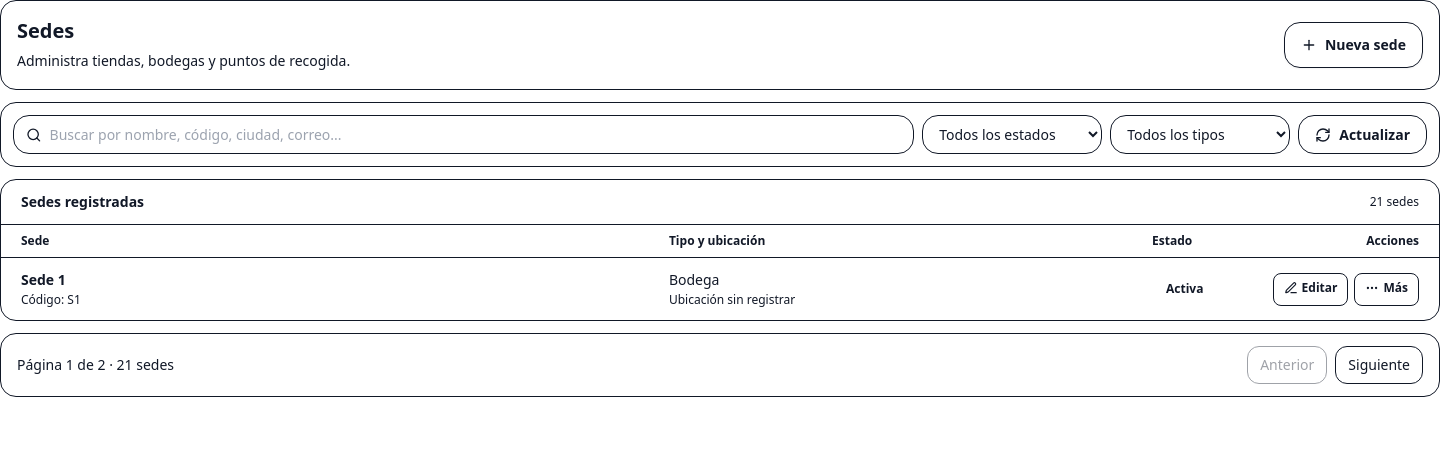
muestra las acciones poco frecuentes solo cuando se abren las opciones
Expected: the text "Sede 1" is shown, [21,270,66,290]
Click the button with aria-label "Opciones de Sede 1" at (1387, 289), box [1354,272,1419,306]
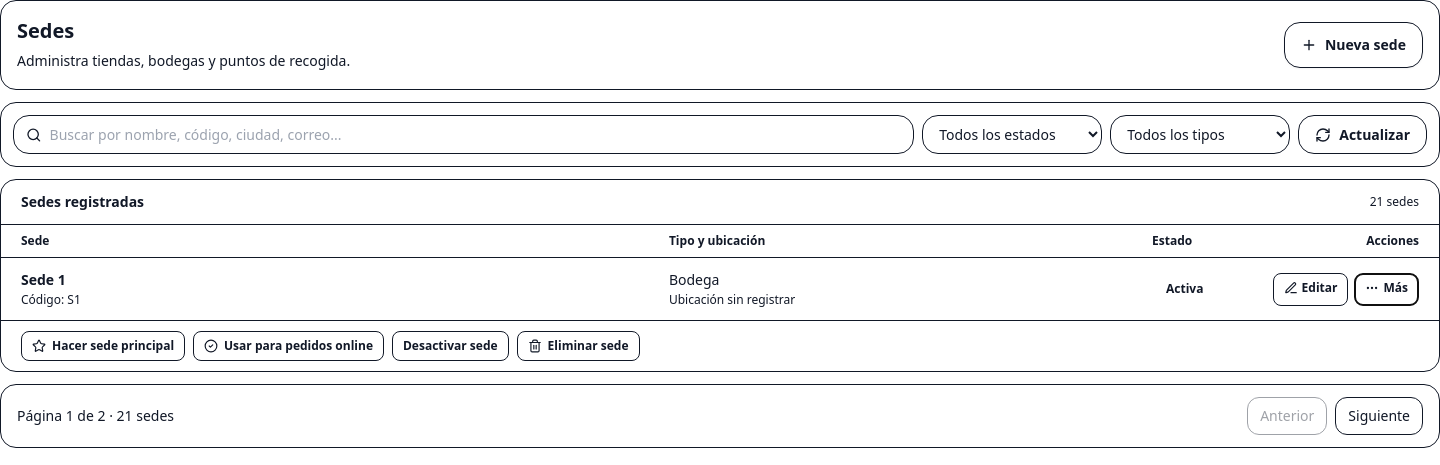
Expected: the button with aria-label "Desactivar Sede 1" is shown, [392,331,509,361]
Expected: the button with aria-label "Eliminar Sede 1" is shown, [517,331,640,361]
Expected: the button "Hacer sede principal" is shown, [21,331,185,361]
